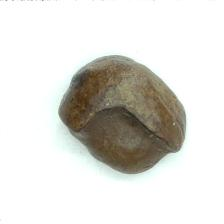NG: (68, 104, 176, 174)
